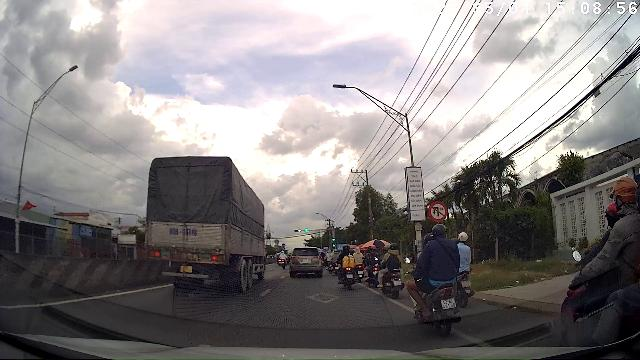124b-cam-oto-quay-dau-xe: (428, 201, 447, 222)
